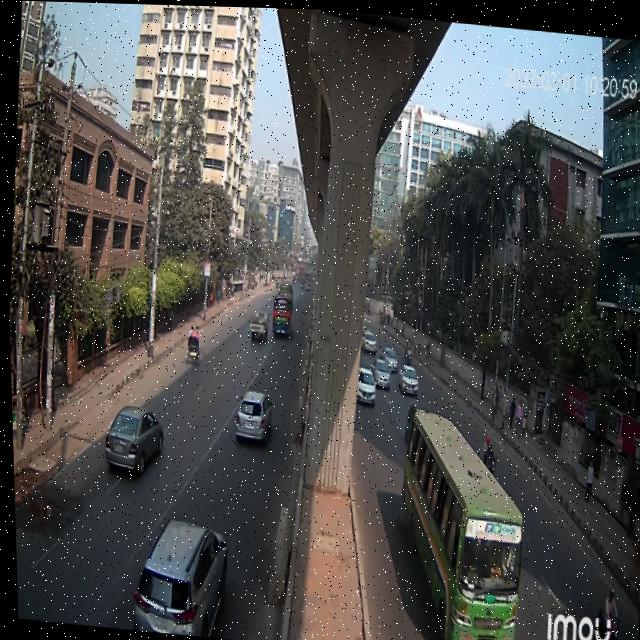rikshaw: (182, 320, 200, 367)
